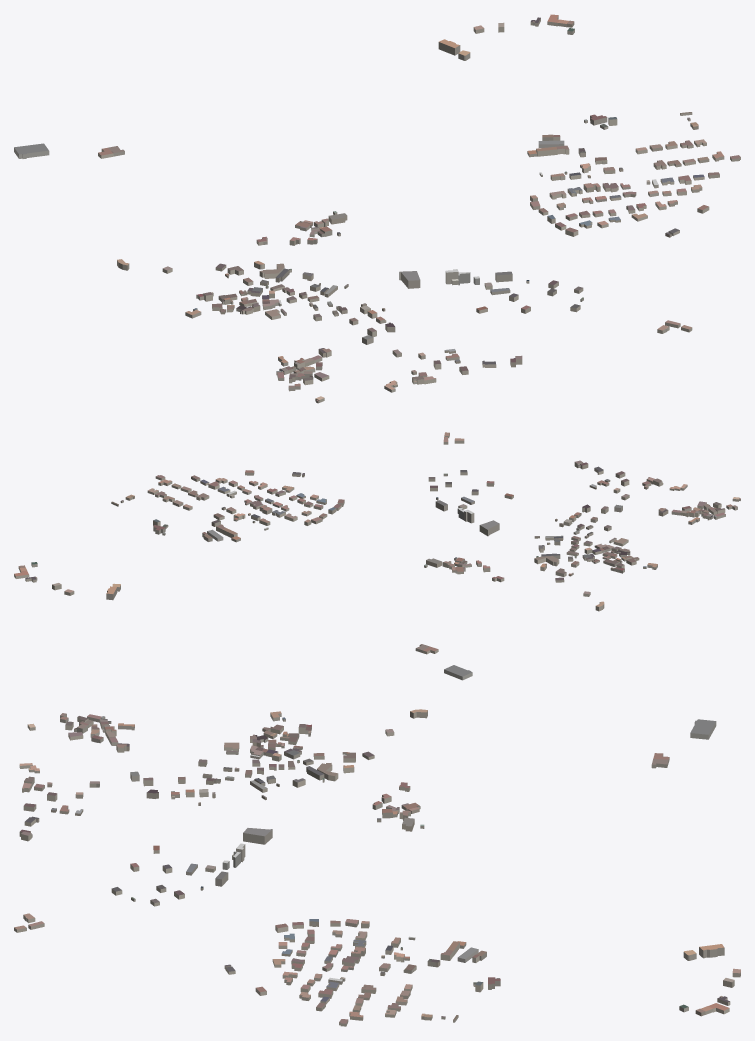
The picture shows the model from 3 angles, top to bottom: view 1: azimuth 30°, elevation 25°; view 2: azimuth 150°, elevation 25°; view 3: azimuth 270°, elevation 25°; orthographic projection. The views are drawn at different scales.
Visible parts, largest first — view 1: tuile; view 2: tuile; view 3: tuile.
Part boxes in pixels (<box>): tuile: <box>14,14,740,403</box>; tuile: <box>14,432,740,680</box>; tuile: <box>14,709,740,1026</box>.
Bounding box in the file's own units: 1007 × 46.02 × 1011.
